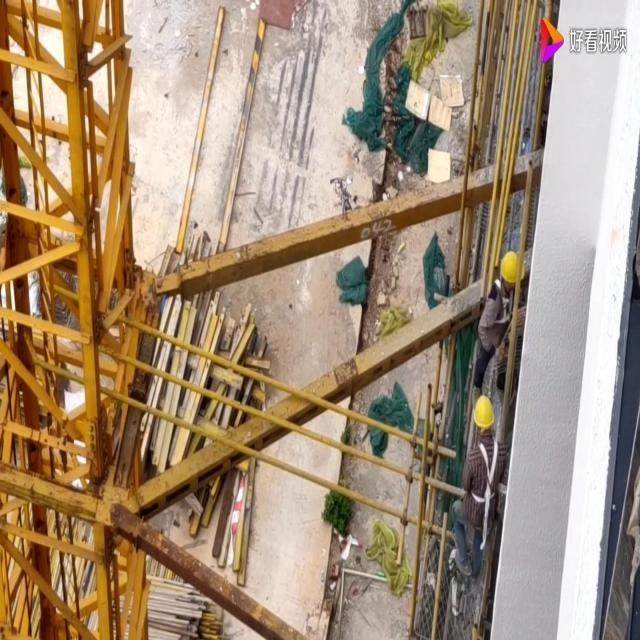Arnes_seguridad: (469, 434, 502, 508), (491, 272, 517, 331)
